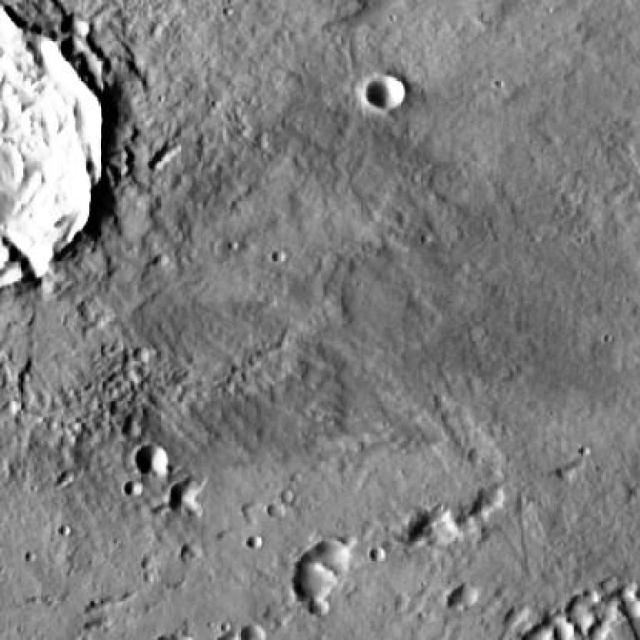crater: (0, 12, 102, 290), (413, 501, 465, 547), (297, 559, 341, 599), (318, 540, 359, 577), (366, 72, 406, 108), (135, 441, 170, 472), (456, 581, 484, 605), (549, 618, 576, 640), (313, 593, 338, 615), (244, 621, 269, 640), (272, 498, 292, 516), (184, 540, 204, 558), (124, 479, 142, 496), (368, 538, 387, 554), (221, 627, 244, 640), (122, 415, 141, 430)
